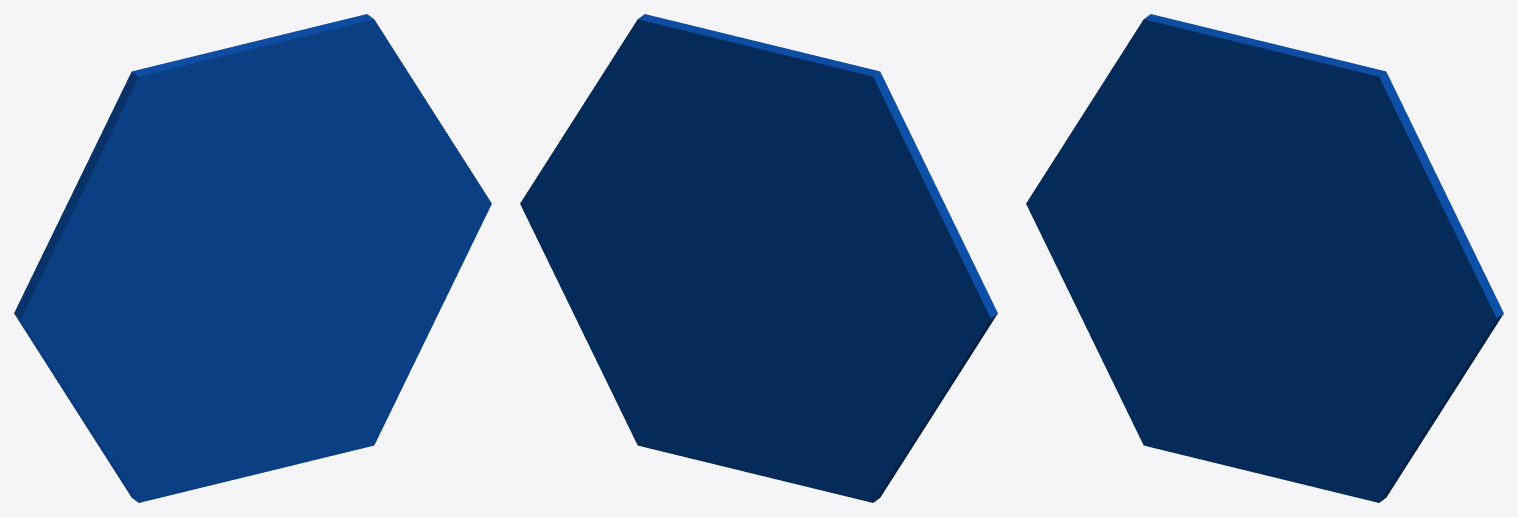
The model's file is blender-hexagon.obj.
The picture shows the model from 3 angles, left to right: view 1: azimuth 30°, elevation 25°; view 2: azimuth 150°, elevation 25°; view 3: azimuth 330°, elevation 25°; orthographic projection.
Visible parts, largest first — view 1: mesh963751589; view 2: mesh963751589; view 3: mesh963751589.
Part boxes in pixels (<box>): mesh963751589: <box>14,14,491,502</box>; mesh963751589: <box>520,14,997,502</box>; mesh963751589: <box>1026,14,1503,502</box>.
Size of the model in its own units: 19 by 16.44 by 0.5.
